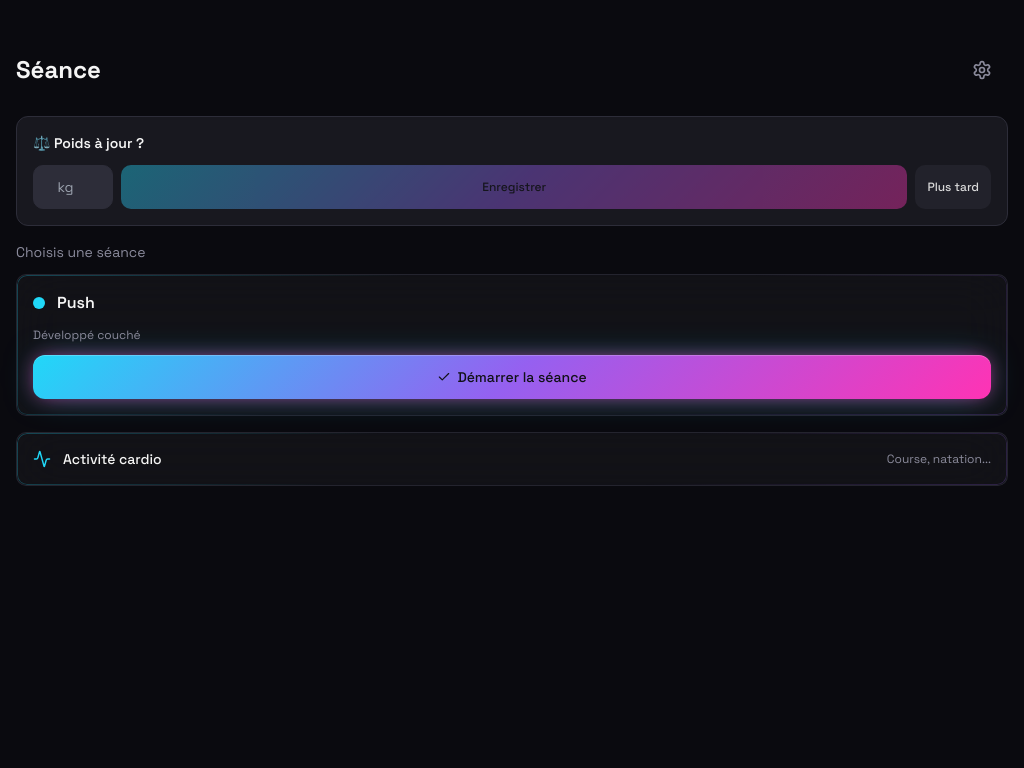
it: WorkoutTab — démarrage de séance et validation de séries › démarre une séance et affiche un bouton Valider par série prescrite
The width and height of the screenshot is (1024, 768).
What coordinates should you click on to do the following:
click the button "Démarrer la séance"
I would click on:
 (512, 377)
Its box is [33,355,991,399].
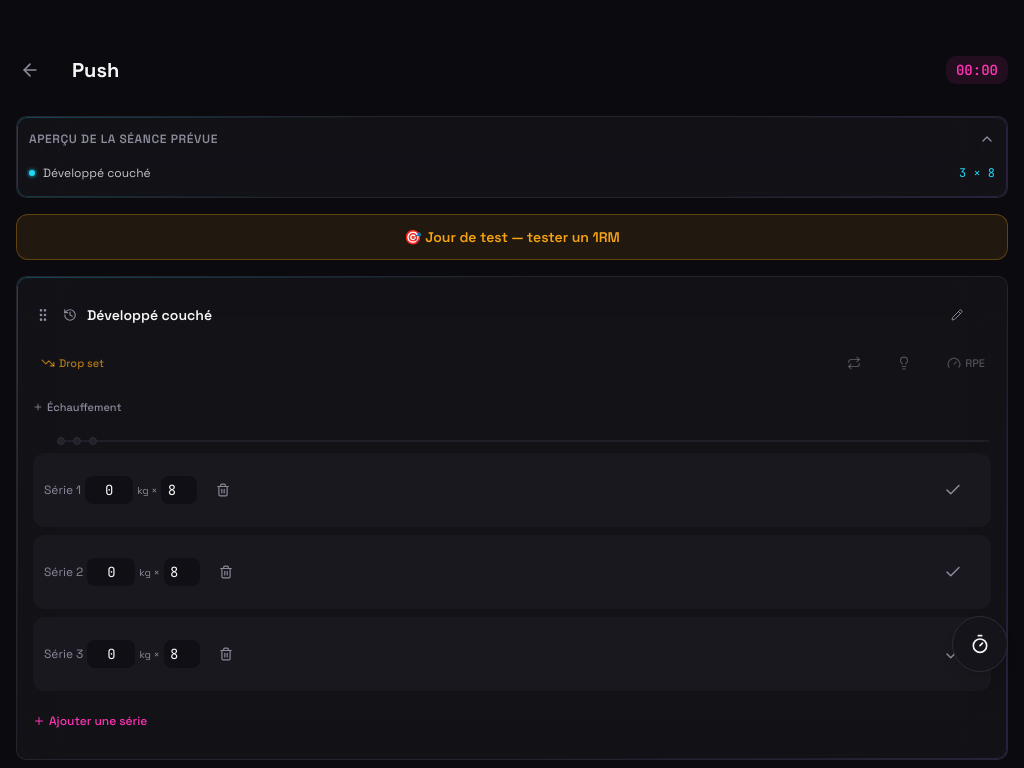
Expected: the button named "Valider Série 1" is shown, [936,468,980,512]
Expected: the button named "Valider Série 2" is shown, [936,550,980,594]
Expected: the button named "Valider Série 3" is shown, [936,632,980,676]
